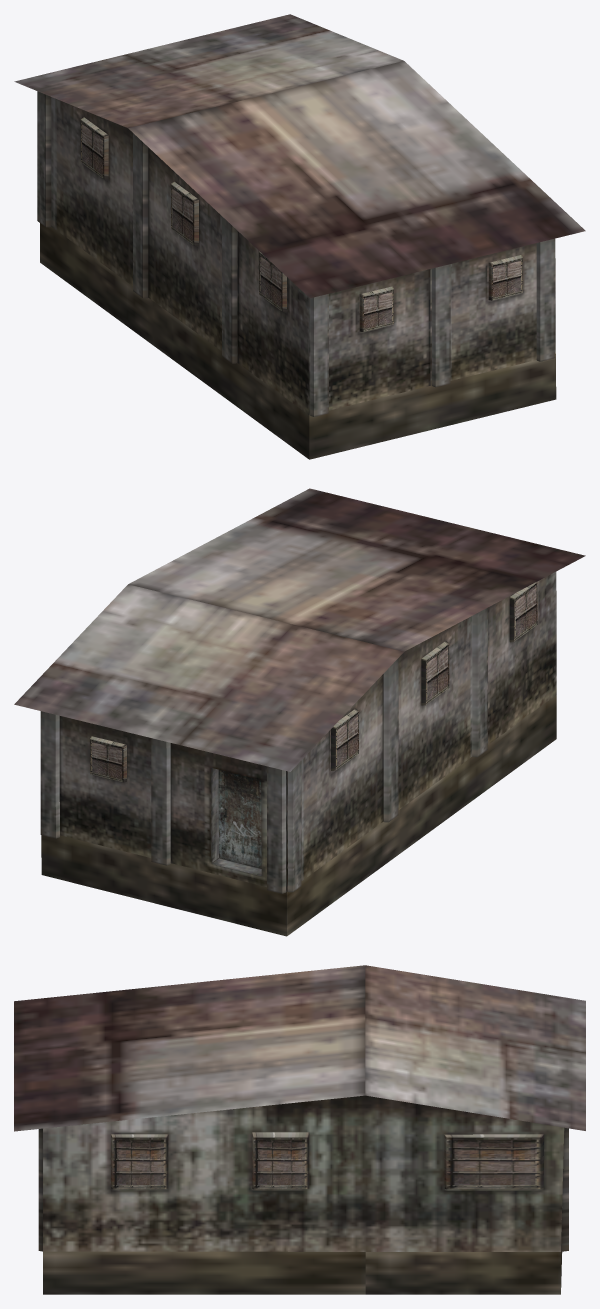
File: Moghut1.glb
3 renders of one model, top to bottom at view 1: azimuth 30°, elevation 25°; view 2: azimuth 150°, elevation 25°; view 3: azimuth 270°, elevation 25°, orthographic. The views are drawn at different scales.
Parts seen in each view (by area): view 1: _Moghut1; view 2: _Moghut1; view 3: _Moghut1.
Boxes of the visible parts, x1,y1,x2,y2 form: _Moghut1: (14,14,585,459); _Moghut1: (14,488,585,936); _Moghut1: (14,965,585,1294).
Size of the model in its own units: 6.62 by 4.88 by 12.27.
Materials: 4 (4 with a texture image).
